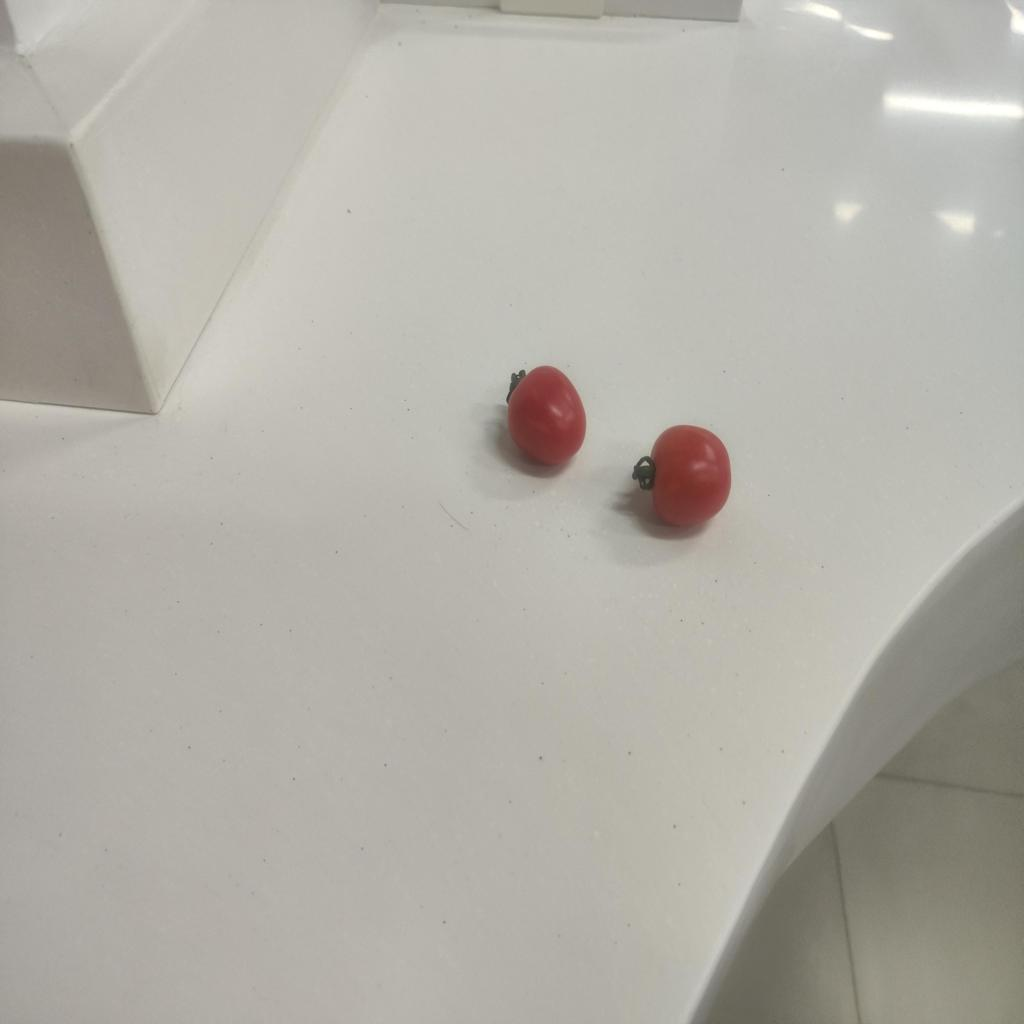tomato: (625, 415, 742, 541), (500, 366, 596, 470)
